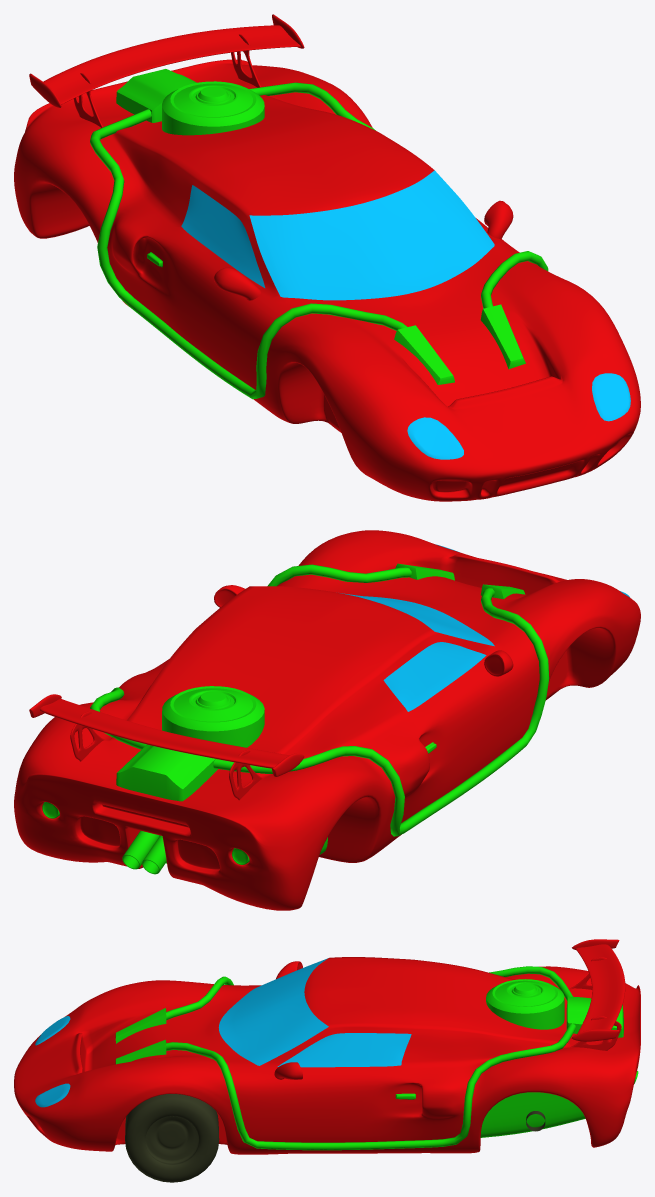
Rendered from MDL_M_Car3.fbx.
The picture shows the model from 3 angles, top to bottom: view 1: azimuth 30°, elevation 25°; view 2: azimuth 150°, elevation 25°; view 3: azimuth 270°, elevation 25°; orthographic projection. The views are drawn at different scales.
Parts seen in each view (by area): view 1: a, Glass, c; view 2: a, c, Glass; view 3: a, c, Glass, Wheel.
Boxes of the visible parts, x1=… form: a: x1=14, y1=14, x2=640, y2=501; Glass: x1=181, y1=170, x2=630, y2=459; c: x1=90, y1=69, x2=548, y2=399; a: x1=14, y1=530, x2=640, y2=910; c: x1=42, y1=563, x2=549, y2=874; Glass: x1=340, y1=544, x2=629, y2=711; a: x1=14, y1=939, x2=640, y2=1154; c: x1=115, y1=966, x2=638, y2=1150; Glass: x1=35, y1=958, x2=411, y2=1107; Wheel: x1=125, y1=1094, x2=219, y2=1182.
Bounding box in the file's own units: 191 × 114 × 444.
